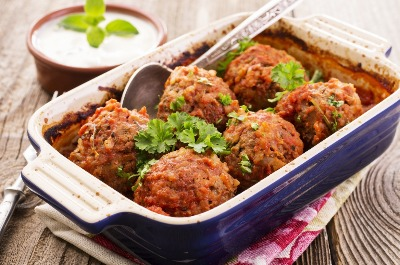meatballs: (154, 54, 334, 161), (80, 106, 232, 205), (162, 66, 238, 125), (234, 41, 306, 99)
